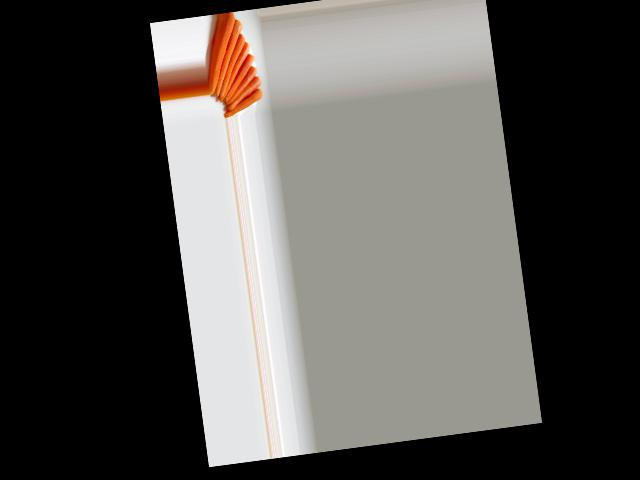carrot: (200, 16, 242, 93)
